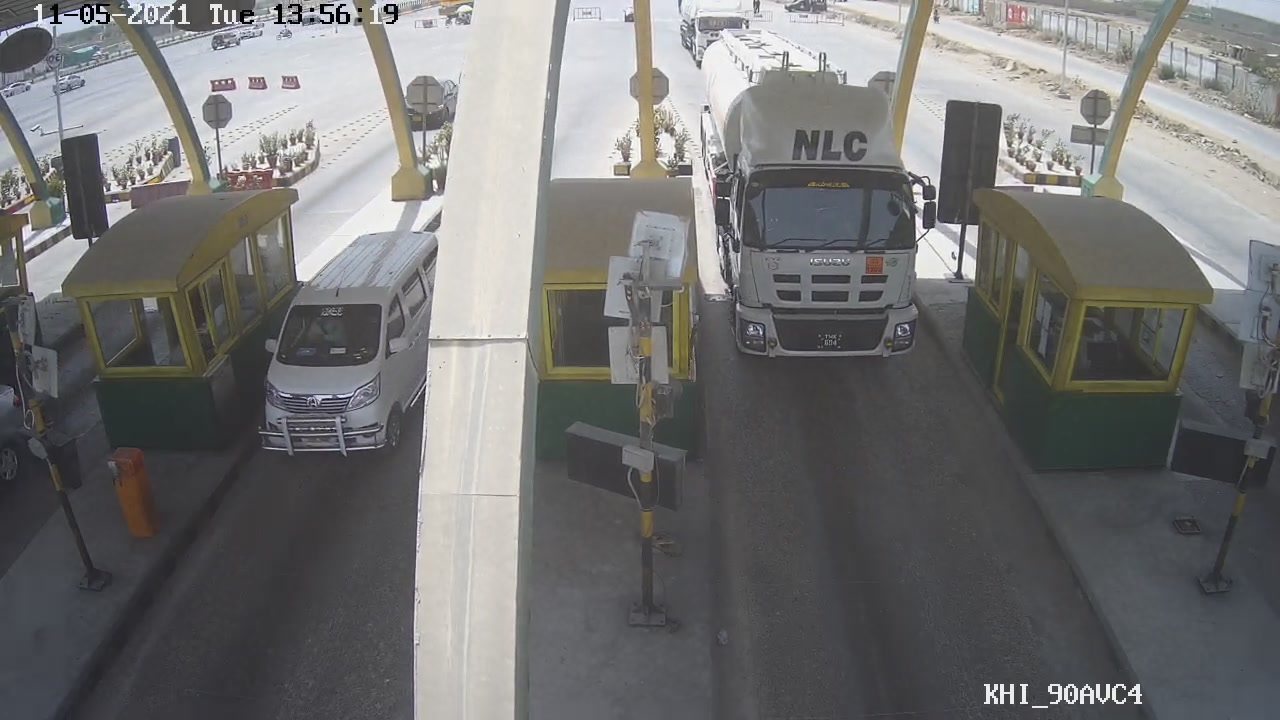F6: (693, 17, 943, 366)
